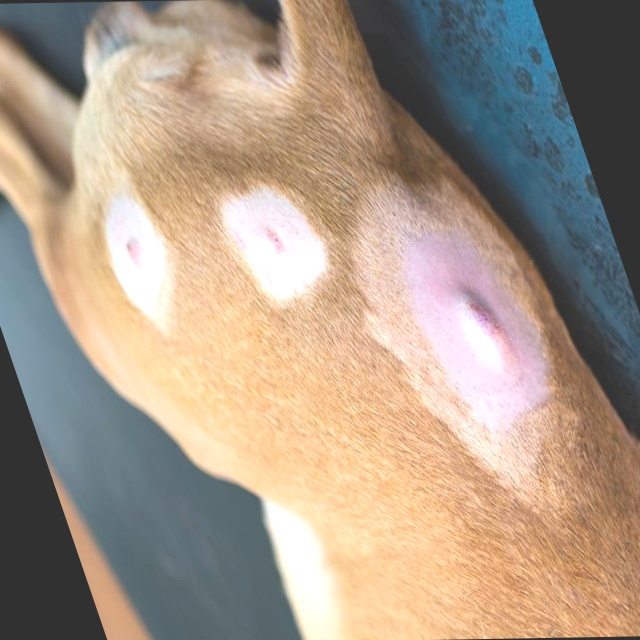lump_and_bump: (453, 291, 521, 375), (114, 240, 154, 272), (256, 227, 289, 252)
